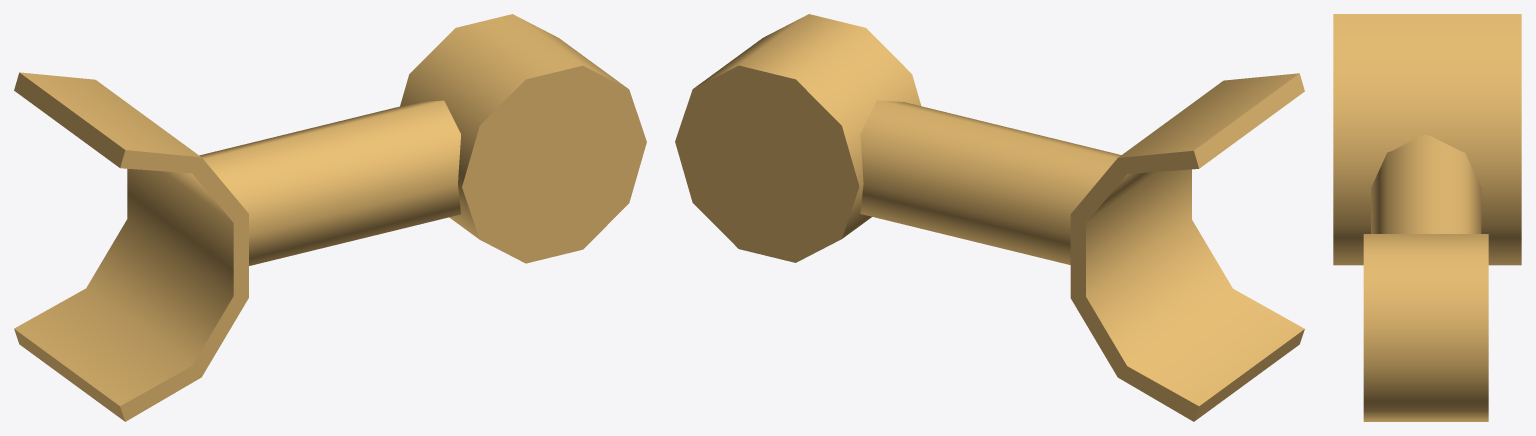
The model's file is ReloaderArm_03.fbx.
The picture shows the model from 3 angles, left to right: view 1: azimuth 30°, elevation 25°; view 2: azimuth 150°, elevation 25°; view 3: azimuth 270°, elevation 25°; orthographic projection. The views are drawn at different scales.
Parts seen in each view (by area): view 1: pCylinder38; view 2: pCylinder38; view 3: pCylinder38.
Part boxes in pixels (x1,y1,x2,y2): pCylinder38: (14, 14, 646, 421); pCylinder38: (675, 14, 1304, 421); pCylinder38: (1333, 14, 1521, 421).
Size of the model in its own units: 60.95 by 29.12 by 20.59.
